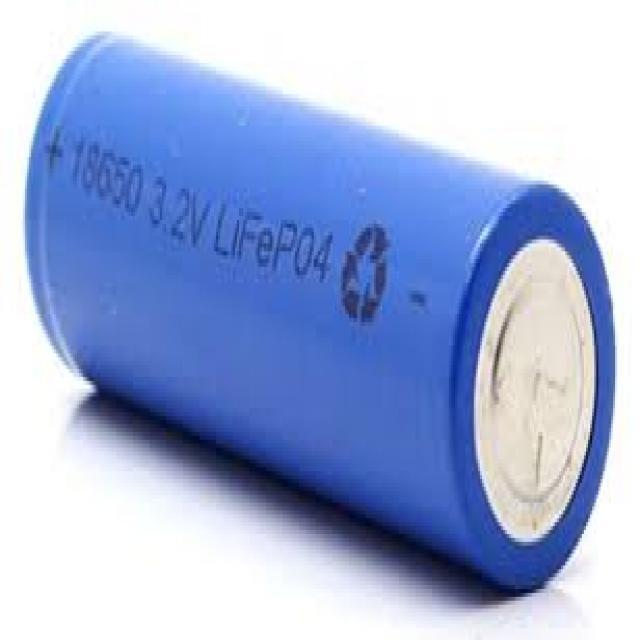battery: (20, 28, 618, 596)
